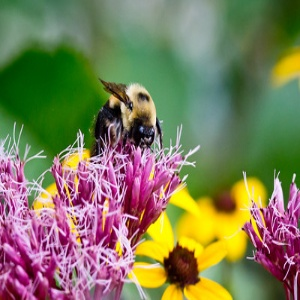bee: (93, 79, 166, 167)
